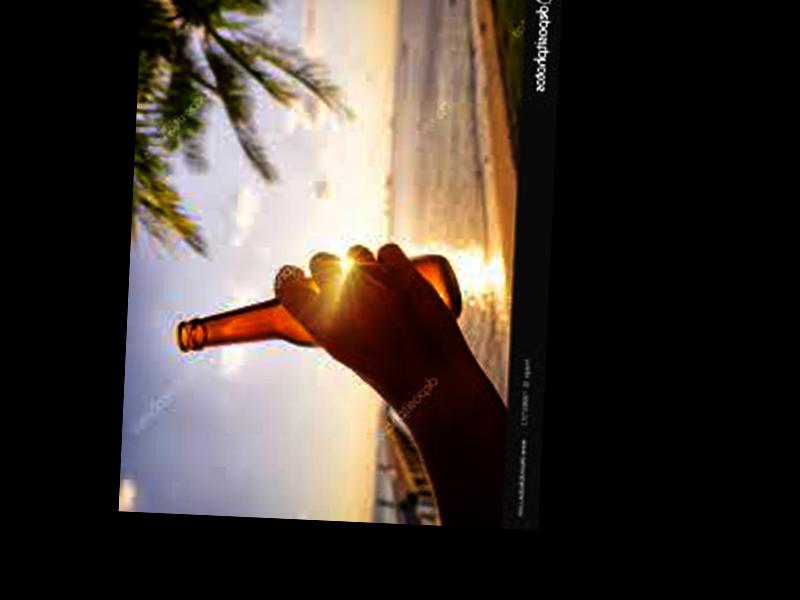Beer: (176, 245, 465, 367)
